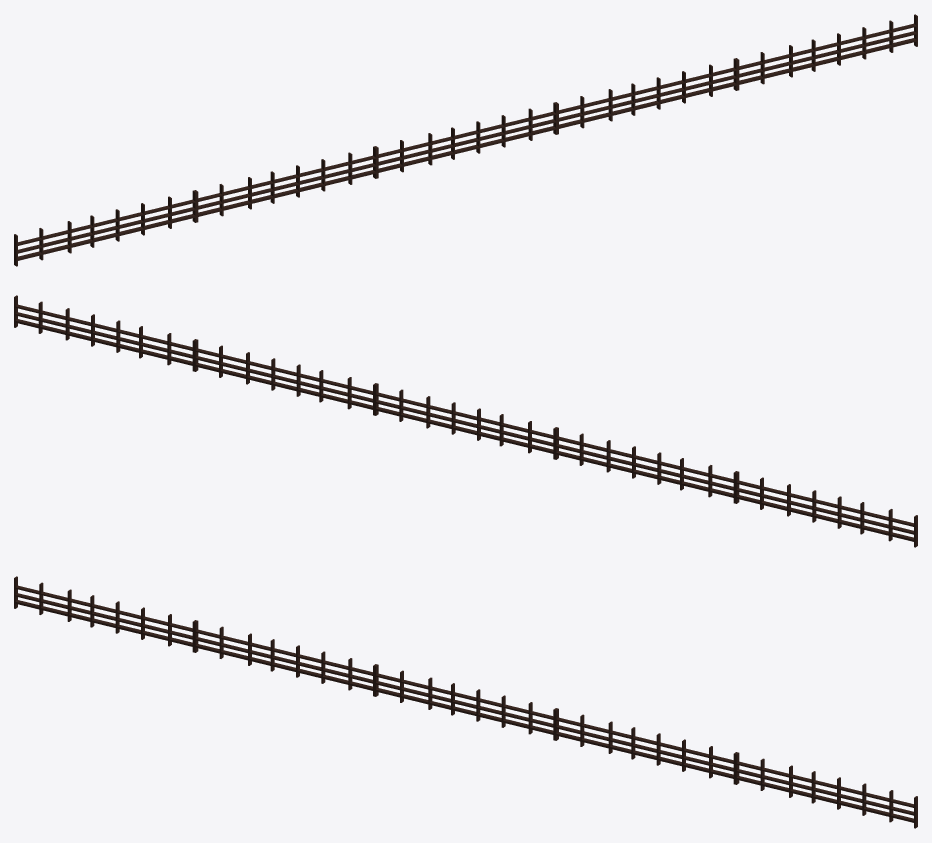
The model's file is plane.011_lev3.glb.
3 renders of one model, top to bottom at view 1: azimuth 30°, elevation 25°; view 2: azimuth 150°, elevation 25°; view 3: azimuth 330°, elevation 25°, orthographic.
Parts seen in each view (by area): view 1: plane.011_lev3; view 2: plane.011_lev3; view 3: plane.011_lev3.
Boxes of the visible parts, x1,y1,x2,y2 form: plane.011_lev3: (14, 14, 917, 266); plane.011_lev3: (14, 295, 917, 547); plane.011_lev3: (14, 576, 917, 828).
Bounding box in the file's own units: 12.07 × 0.3895 × 0.0571.
